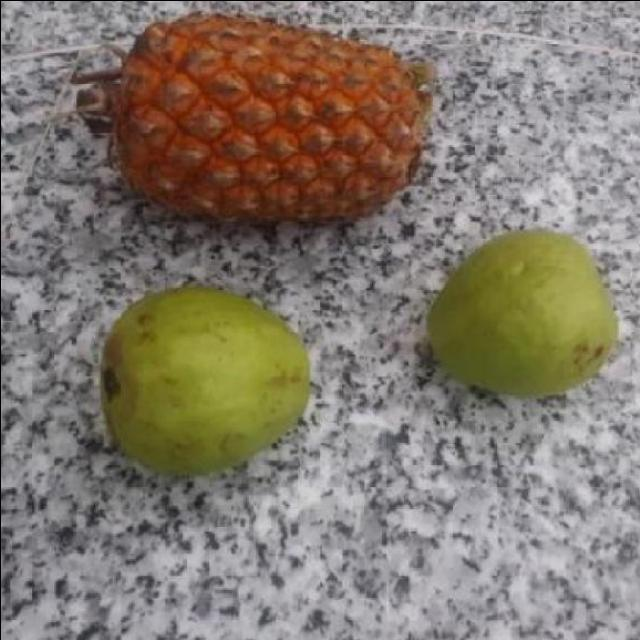guava: (92, 288, 307, 470), (422, 234, 618, 392)
pineapple: (96, 9, 438, 225)
